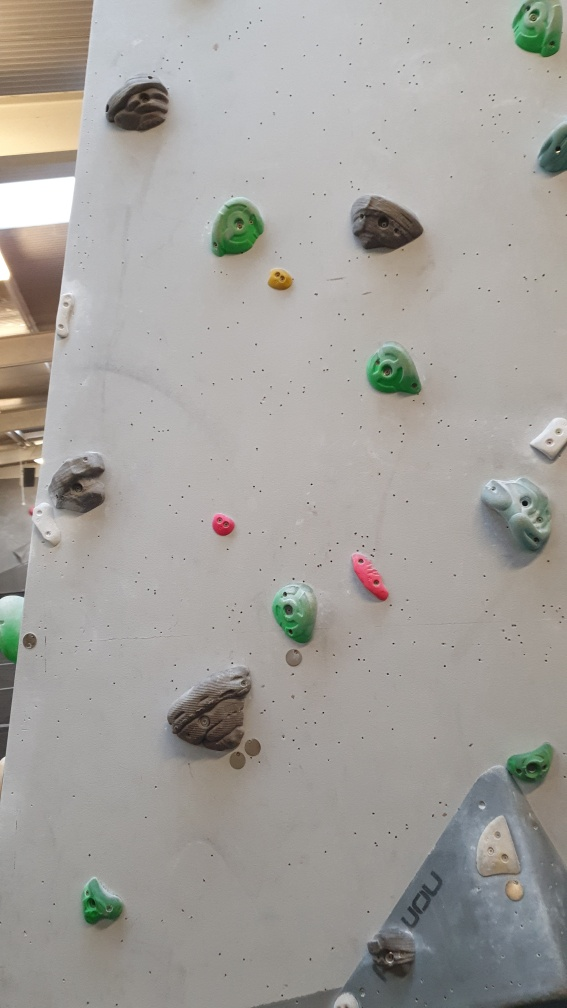Crimp: (349, 552, 391, 603), (530, 413, 567, 463), (53, 294, 79, 337)
Hand Start: (500, 877, 528, 904), (281, 647, 307, 672), (245, 736, 265, 761), (20, 632, 40, 650), (228, 749, 245, 770)
Jug: (165, 663, 252, 753), (476, 473, 559, 549), (102, 68, 179, 136), (349, 193, 428, 259), (47, 451, 115, 517), (207, 192, 269, 260), (269, 581, 325, 652), (365, 339, 424, 397), (514, 1, 566, 61), (505, 740, 557, 789)
Pinch: (264, 269, 295, 293)
